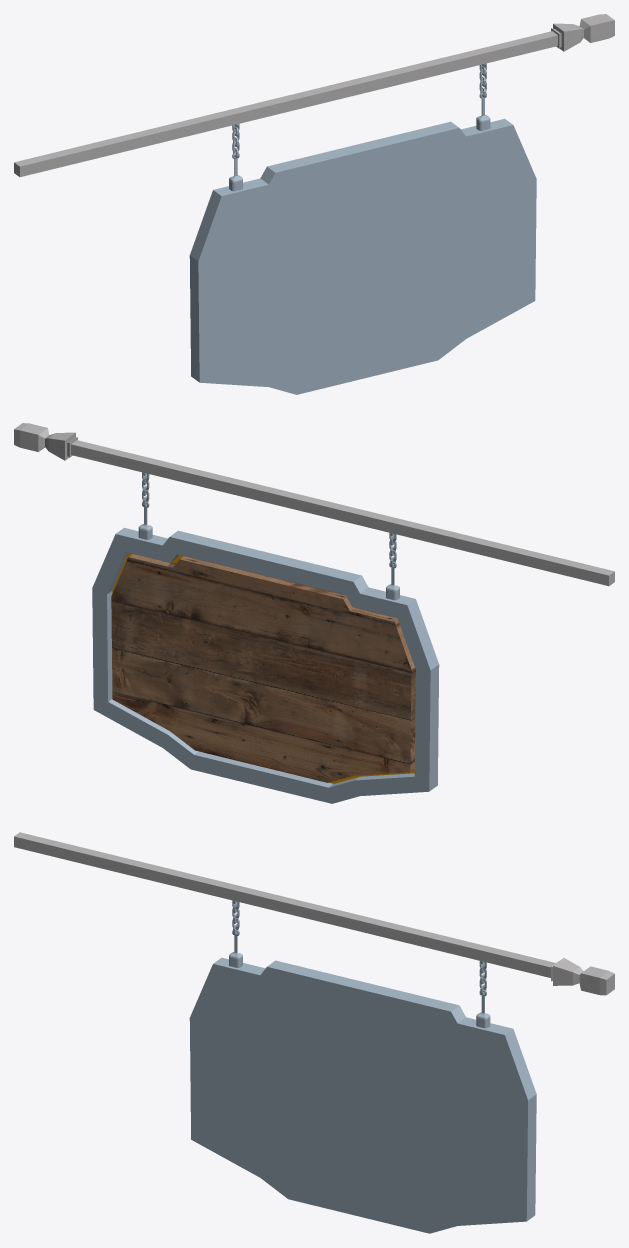
The model's file is Sign2.fbx.
The picture shows the model from 3 angles, top to bottom: view 1: azimuth 30°, elevation 25°; view 2: azimuth 150°, elevation 25°; view 3: azimuth 330°, elevation 25°; orthographic projection.
Parts seen in each view (by area): view 1: Sign; view 2: Sign; view 3: Sign.
Part boxes in pixels (left/top/right/bottom): Sign: left=14, top=14, right=614, bottom=394; Sign: left=14, top=423, right=614, bottom=803; Sign: left=14, top=832, right=614, bottom=1233.
Size of the model in its own units: 407 by 196 by 13.14.
